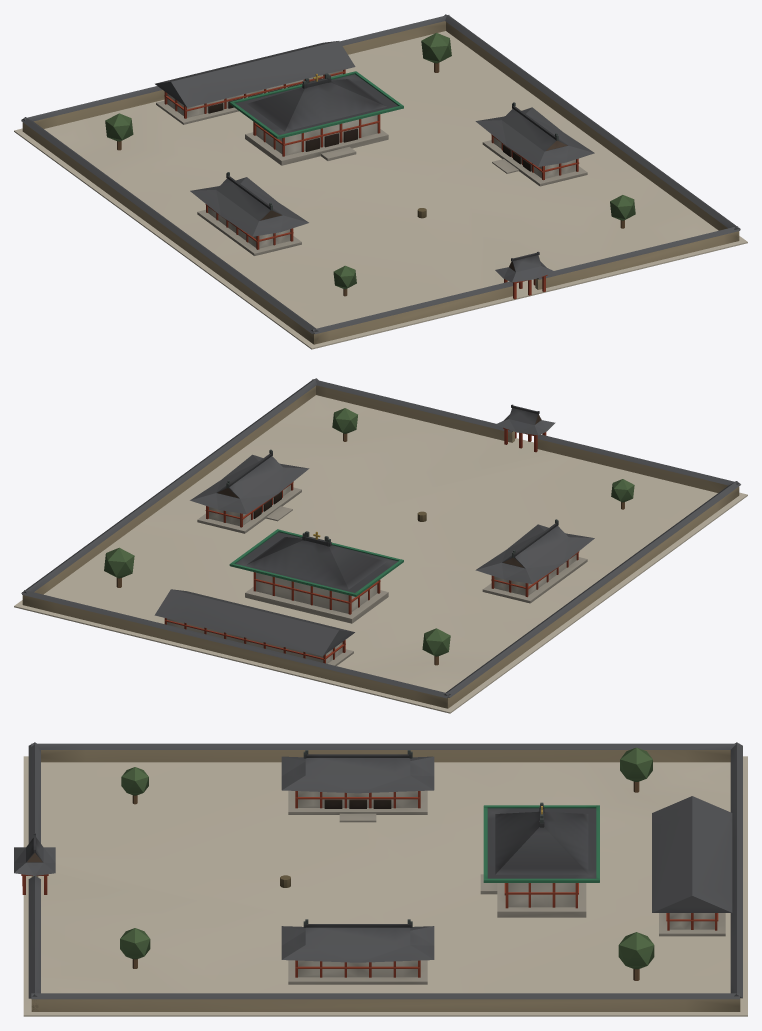
Rendered from daqin-monastery.glb.
The picture shows the model from 3 angles, top to bottom: view 1: azimuth 30°, elevation 25°; view 2: azimuth 150°, elevation 25°; view 3: azimuth 270°, elevation 25°; orthographic projection. The views are drawn at different scales.
Visible parts, largest first — view 1: p0_walls, p2_trees, p1_halls; view 2: p0_walls, p2_trees, p1_halls; view 3: p0_walls, p2_trees, p1_halls.
Part boxes in pixels (x1,y1,x2,y2): p0_walls: (14, 14, 747, 349); p2_trees: (105, 32, 635, 296); p1_halls: (156, 69, 587, 299); p0_walls: (14, 378, 747, 713); p2_trees: (104, 408, 634, 665); p1_halls: (164, 404, 587, 665); p0_walls: (23, 742, 747, 1016); p2_trees: (120, 747, 732, 980); p1_halls: (14, 790, 725, 984).
Size of the model in its own units: 110 by 16.05 by 132.
